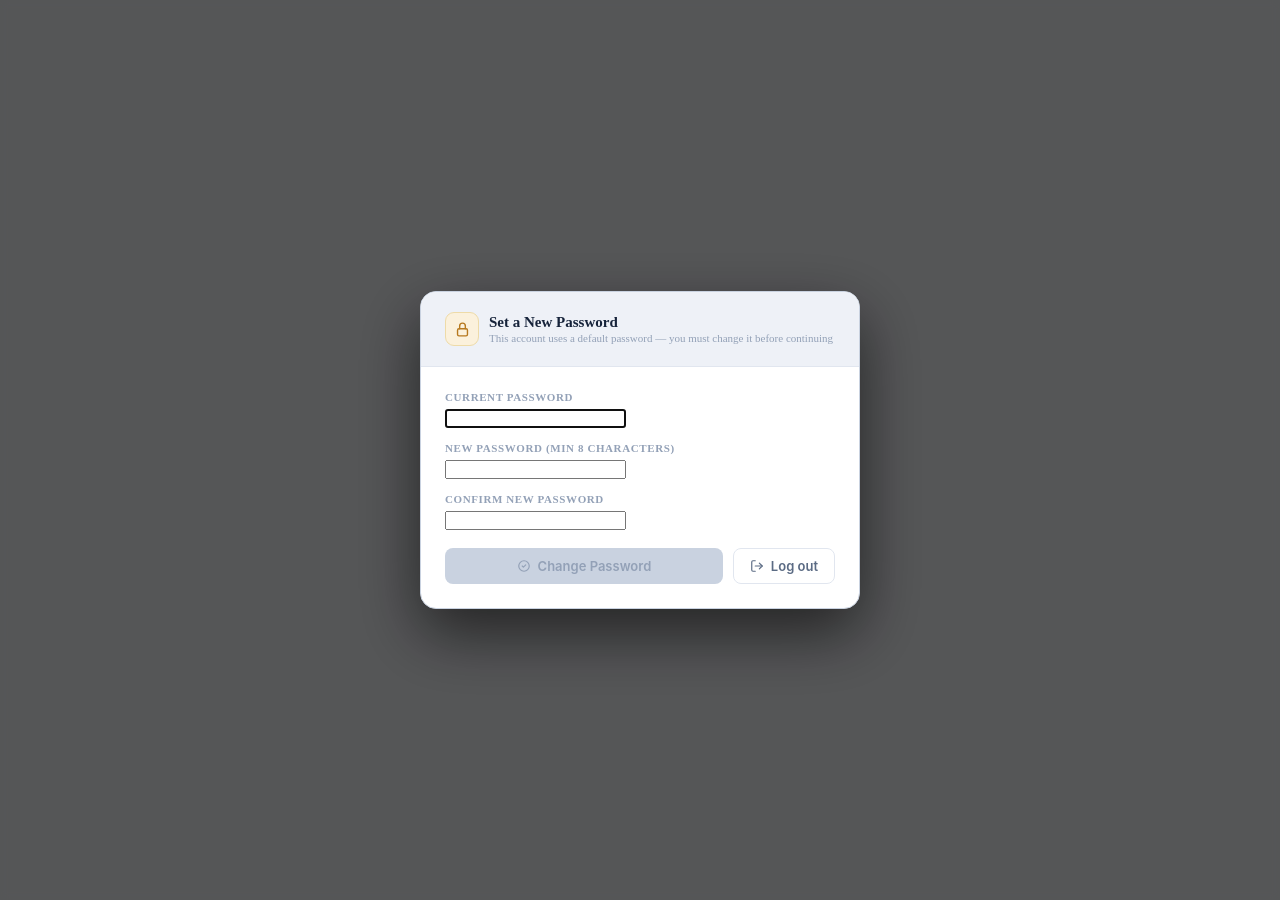
Test: ForceChangePasswordModal › rejects a too-short new password without calling the API
This screenshot has width=1280, height=900.
Step 1. Type "admin123" into the password field below "Current Password" → (536, 418), box [445,409,626,428]
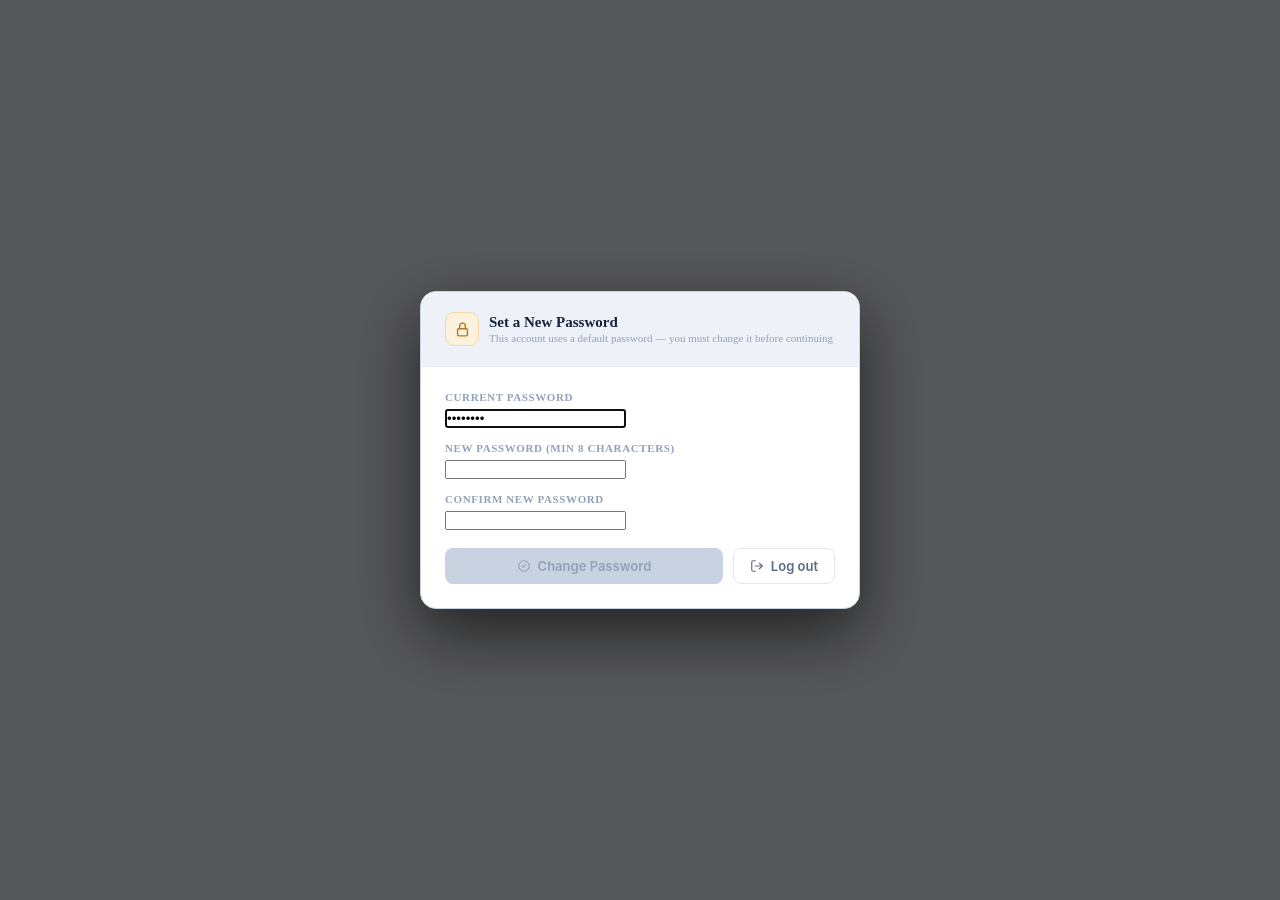
Step 2. Type "short" into the password field below "New Password (min 8 characters)" → (536, 470), box [445,460,626,479]
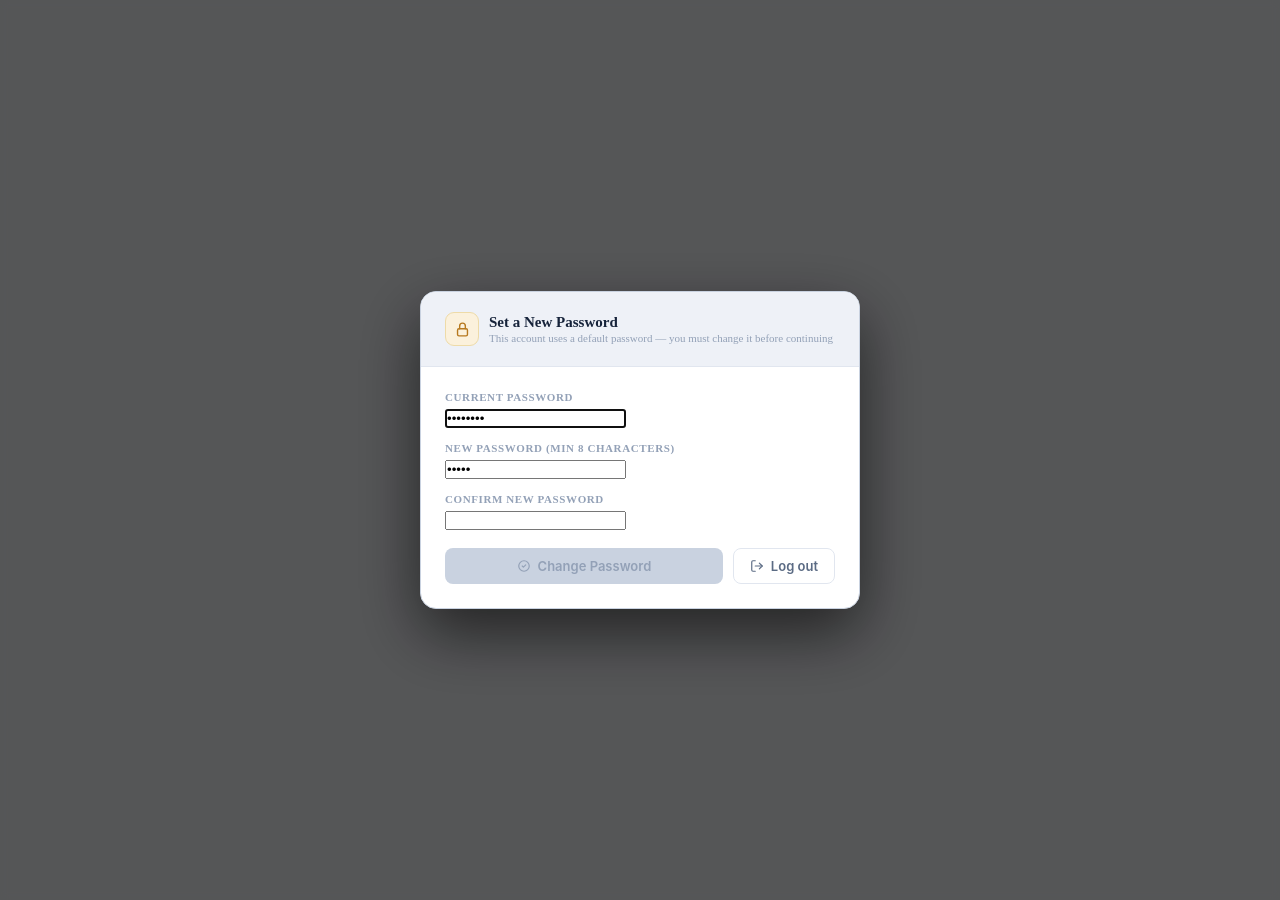
Step 3. Type "short" into the password field below "Confirm New Password" → (536, 520), box [445,511,626,530]
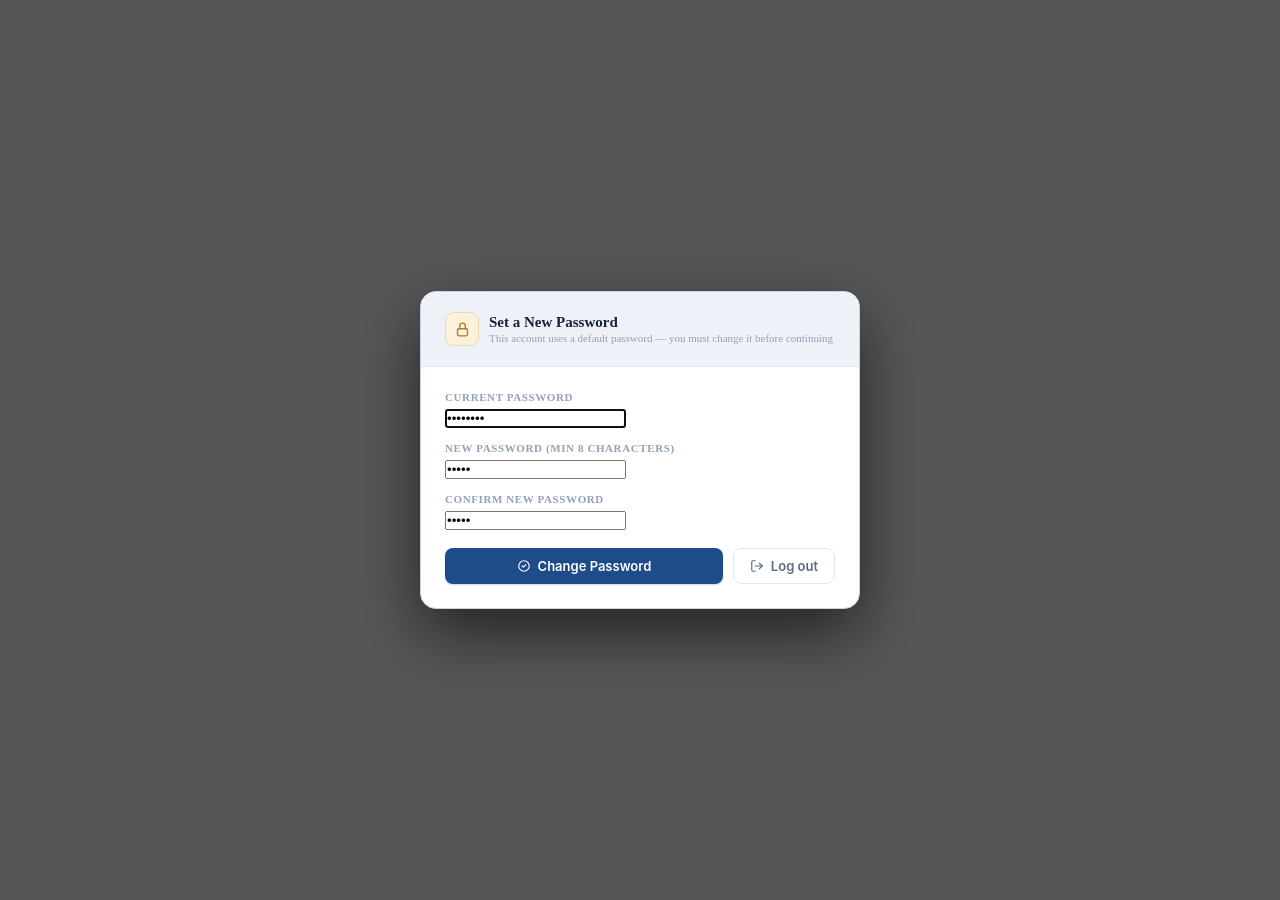
Step 4. Click the button "Change Password" → (584, 566), box [445,548,723,584]
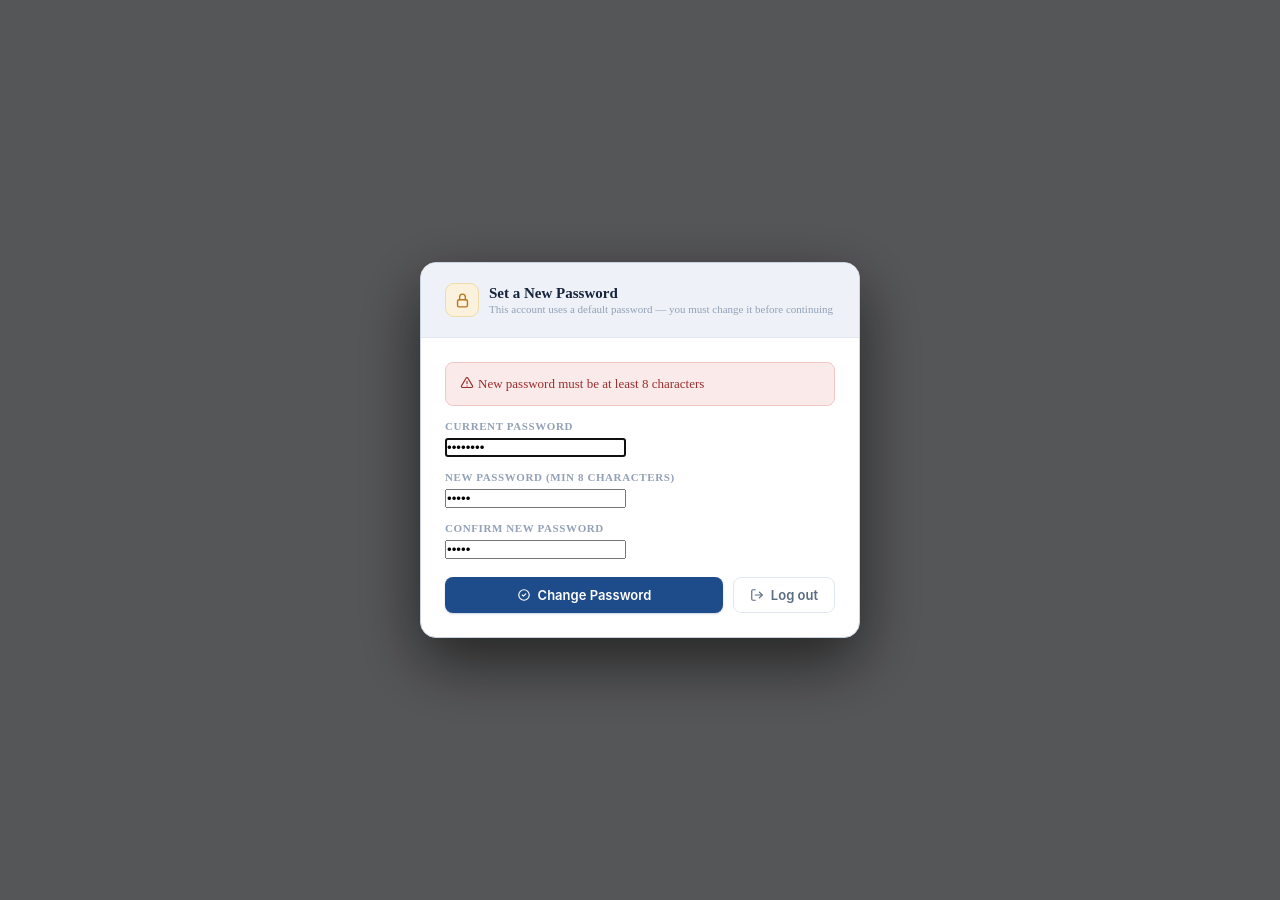
Check: the text "New password must be at least 8 characters" is shown, box [445,362,835,406]
